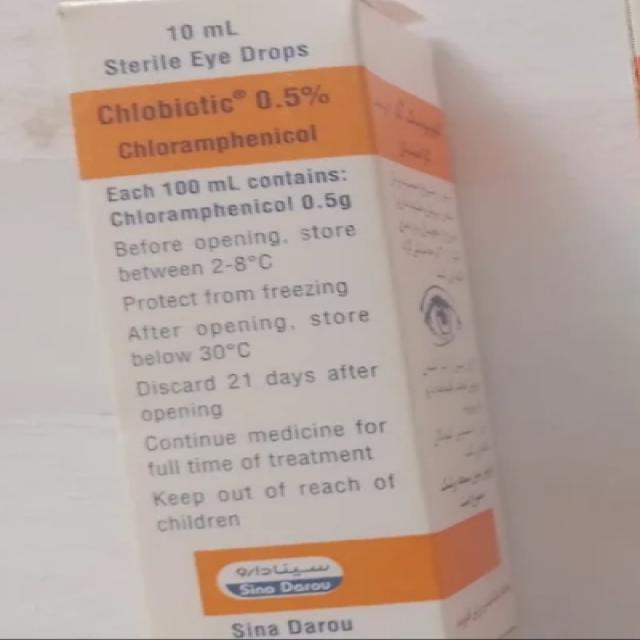drug-name: (96, 76, 332, 129)
